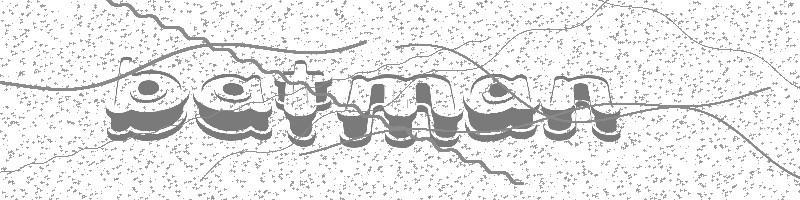a: (192, 73, 274, 141), (463, 73, 538, 143)
b: (105, 55, 188, 142)
m: (337, 75, 462, 149)
n: (541, 75, 623, 144)
t: (274, 59, 333, 147)
